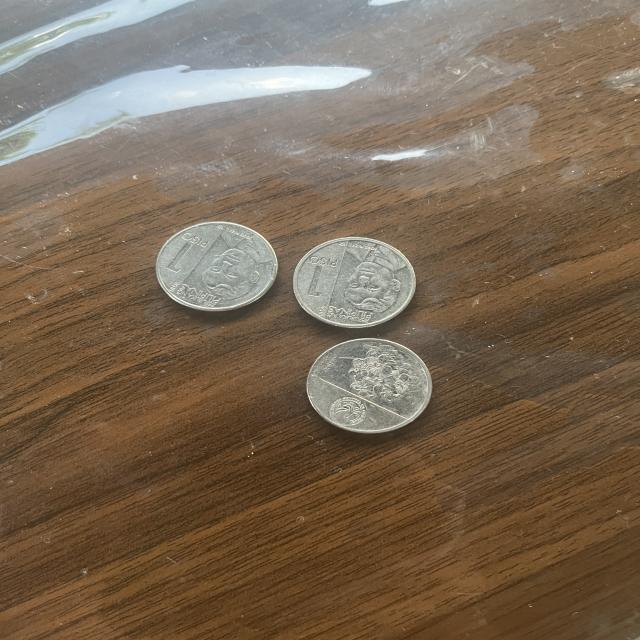1_New_Back: (340, 339, 426, 402)
1_New_Front: (163, 229, 213, 294), (299, 249, 346, 313)
